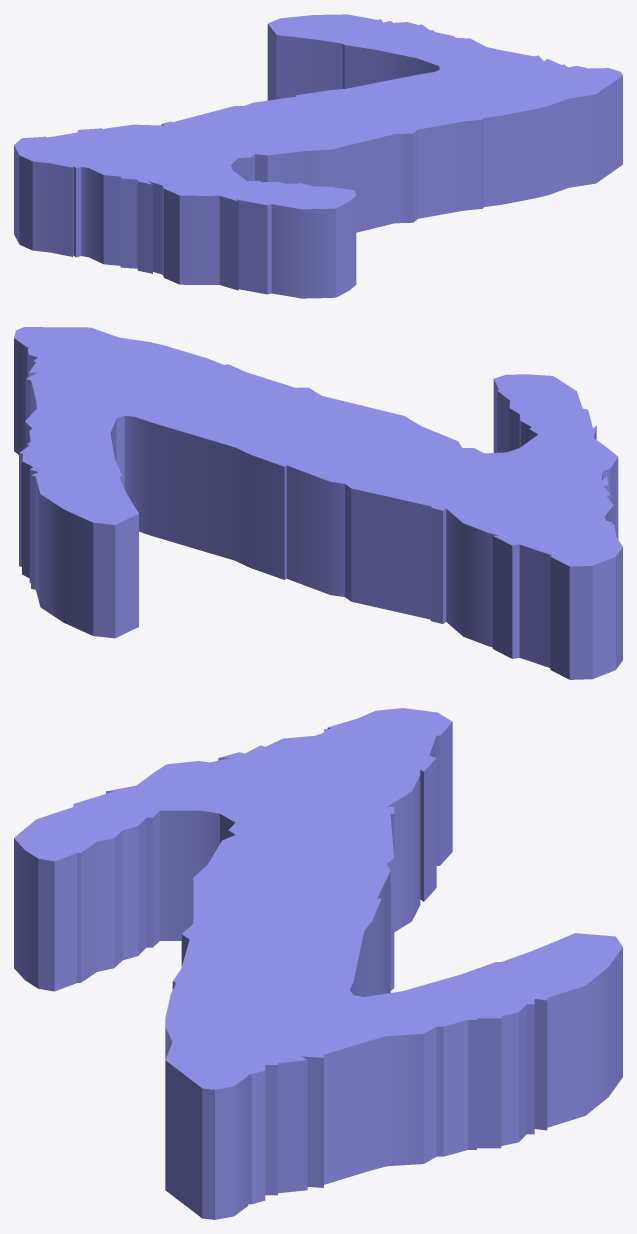
The model's file is original-13.obj.
3 renders of one model, top to bottom at view 1: azimuth 30°, elevation 25°; view 2: azimuth 150°, elevation 25°; view 3: azimuth 270°, elevation 25°, orthographic. The views are drawn at different scales.
Parts seen in each view (by area): view 1: mesh12/mesh12-geometry#mesh12-geometry; view 2: mesh12/mesh12-geometry#mesh12-geometry; view 3: mesh12/mesh12-geometry#mesh12-geometry.
Part boxes in pixels (bbox=[...]): mesh12/mesh12-geometry#mesh12-geometry: bbox=[14, 14, 622, 298]; mesh12/mesh12-geometry#mesh12-geometry: bbox=[14, 327, 622, 679]; mesh12/mesh12-geometry#mesh12-geometry: bbox=[14, 708, 622, 1219].
Bounding box in the file's own units: 0.0641 × 0.0102 × 0.0432.
